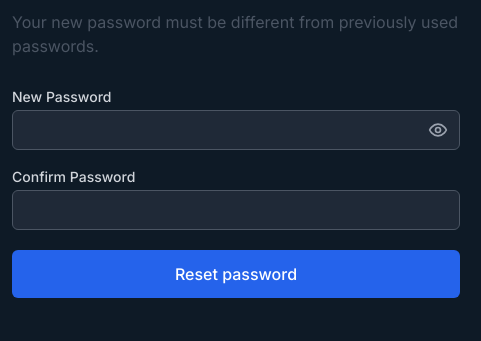
Test: ResetPasswordPage › validates password has lowercase letter
In the password field labelled "New Password": (236, 130) [12,110,460,150], type "PASSWORD123!"
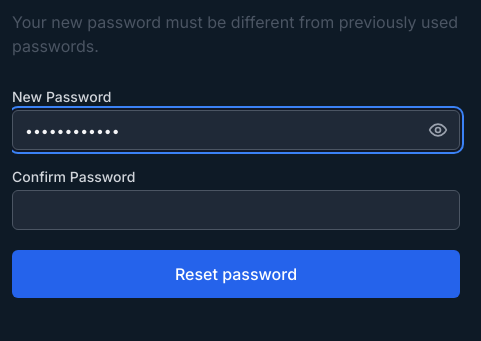
In the password field labelled "Confirm Password": (236, 210) [12,190,460,230], type "PASSWORD123!"
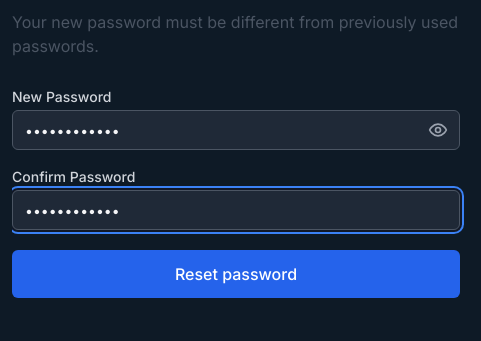
Click the button "Reset password": click(236, 274) [12,250,460,298]
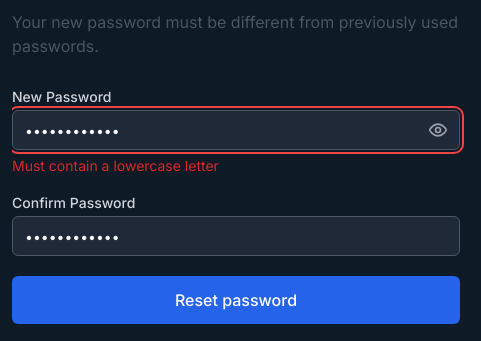
Expected: the text "Must contain a lowercase letter" is shown, [12,157,219,174]
